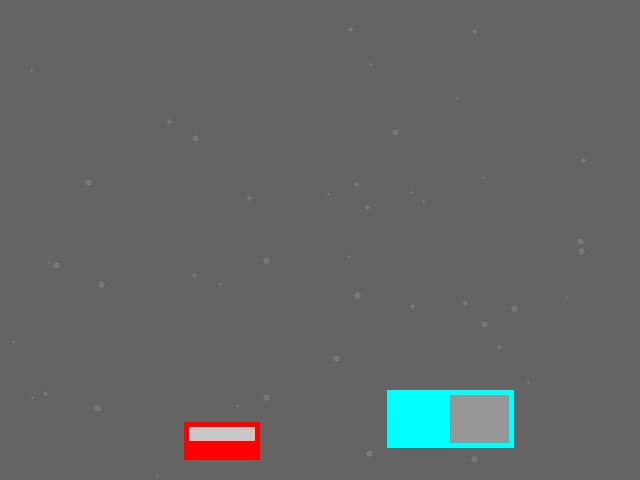car: (184, 422, 259, 459)
truck: (387, 390, 513, 447)
